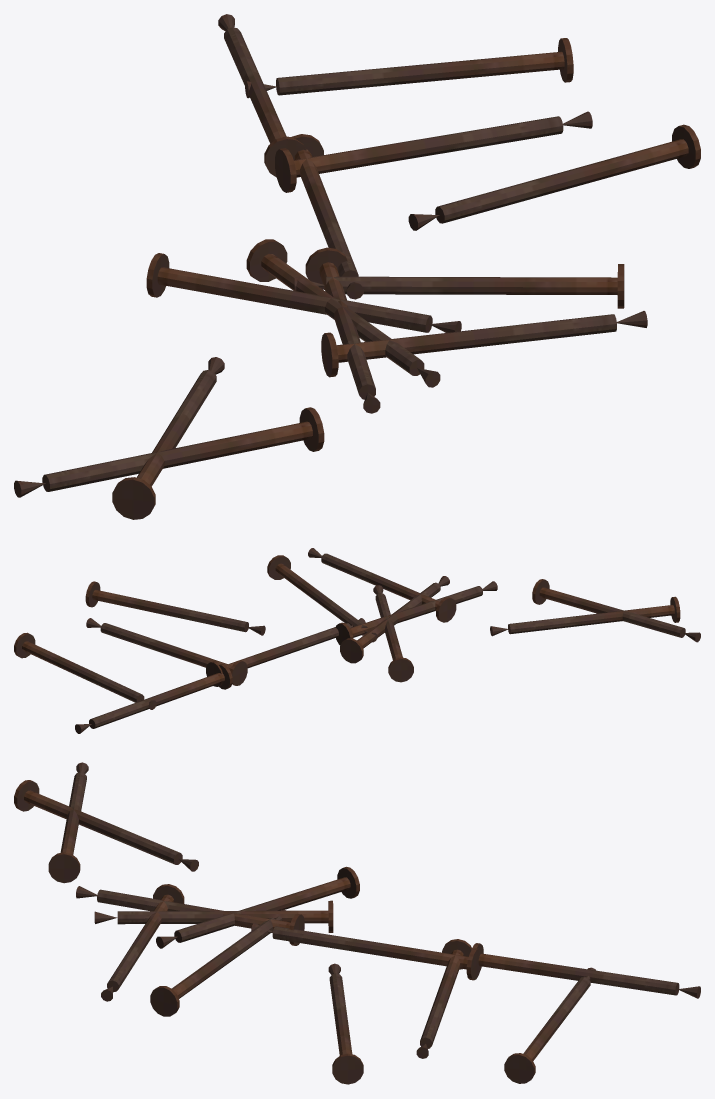
File: EST-PRG-003.glb
The picture shows the model from 3 angles, top to bottom: view 1: azimuth 30°, elevation 25°; view 2: azimuth 150°, elevation 25°; view 3: azimuth 270°, elevation 25°; orthographic projection. The views are drawn at different scales.
Parts seen in each view (by area): view 1: EST-PRG-003_prego, EST-PRG-003_prego.008, EST-PRG-003_prego.002, EST-PRG-003_prego.010, EST-PRG-003_prego.005, EST-PRG-003_prego.006, EST-PRG-003_prego.003, EST-PRG-003_prego.011, EST-PRG-003_prego.001, EST-PRG-003_prego.009, EST-PRG-003_prego.007, EST-PRG-003_prego.004; view 2: EST-PRG-003_prego.008, EST-PRG-003_prego.001, EST-PRG-003_prego.010, EST-PRG-003_prego.007, EST-PRG-003_prego, EST-PRG-003_prego.002, EST-PRG-003_prego.005, EST-PRG-003_prego.009, EST-PRG-003_prego.003, EST-PRG-003_prego.004, EST-PRG-003_prego.011, EST-PRG-003_prego.006; view 3: EST-PRG-003_prego.004, EST-PRG-003_prego.007, EST-PRG-003_prego.001, EST-PRG-003_prego.006, EST-PRG-003_prego.003, EST-PRG-003_prego.011, EST-PRG-003_prego.009, EST-PRG-003_prego, EST-PRG-003_prego.008, EST-PRG-003_prego.010, EST-PRG-003_prego.005, EST-PRG-003_prego.002.
Part boxes in pixels (bbox=[...]): EST-PRG-003_prego: bbox=[245, 38, 573, 98]; EST-PRG-003_prego.008: bbox=[408, 124, 700, 230]; EST-PRG-003_prego.002: bbox=[275, 111, 592, 192]; EST-PRG-003_prego.010: bbox=[14, 407, 324, 497]; EST-PRG-003_prego.005: bbox=[321, 311, 647, 377]; EST-PRG-003_prego.006: bbox=[146, 253, 461, 332]; EST-PRG-003_prego.003: bbox=[294, 264, 624, 308]; EST-PRG-003_prego.011: bbox=[246, 239, 440, 387]; EST-PRG-003_prego.001: bbox=[112, 357, 224, 519]; EST-PRG-003_prego.009: bbox=[305, 247, 380, 413]; EST-PRG-003_prego.007: bbox=[218, 14, 306, 177]; EST-PRG-003_prego.004: bbox=[291, 134, 363, 299]; EST-PRG-003_prego.008: bbox=[85, 581, 265, 635]; EST-PRG-003_prego.001: bbox=[490, 596, 680, 636]; EST-PRG-003_prego.010: bbox=[532, 579, 700, 642]; EST-PRG-003_prego.007: bbox=[75, 664, 232, 733]; EST-PRG-003_prego: bbox=[14, 632, 156, 709]; EST-PRG-003_prego.002: bbox=[86, 618, 247, 685]; EST-PRG-003_prego.005: bbox=[308, 548, 456, 622]; EST-PRG-003_prego.009: bbox=[335, 581, 497, 645]; EST-PRG-003_prego.003: bbox=[267, 555, 377, 642]; EST-PRG-003_prego.004: bbox=[206, 618, 365, 686]; EST-PRG-003_prego.011: bbox=[340, 576, 449, 663]; EST-PRG-003_prego.006: bbox=[373, 585, 413, 682]; EST-PRG-003_prego.004: bbox=[251, 923, 481, 980]; EST-PRG-003_prego.007: bbox=[471, 943, 700, 998]; EST-PRG-003_prego.001: bbox=[14, 780, 198, 871]; EST-PRG-003_prego.006: bbox=[156, 866, 359, 948]; EST-PRG-003_prego.003: bbox=[150, 909, 286, 1016]; EST-PRG-003_prego.011: bbox=[94, 900, 333, 932]; EST-PRG-003_prego.009: bbox=[76, 886, 304, 945]; EST-PRG-003_prego: bbox=[504, 967, 595, 1083]; EST-PRG-003_prego.008: bbox=[328, 963, 363, 1084]; EST-PRG-003_prego.010: bbox=[48, 762, 88, 883]; EST-PRG-003_prego.005: bbox=[101, 884, 184, 1001]; EST-PRG-003_prego.002: bbox=[416, 939, 471, 1058].
Size of the model in its own units: 0.2065 by 0.00924 by 0.1976.
Materials: 1 (1 with a texture image).
